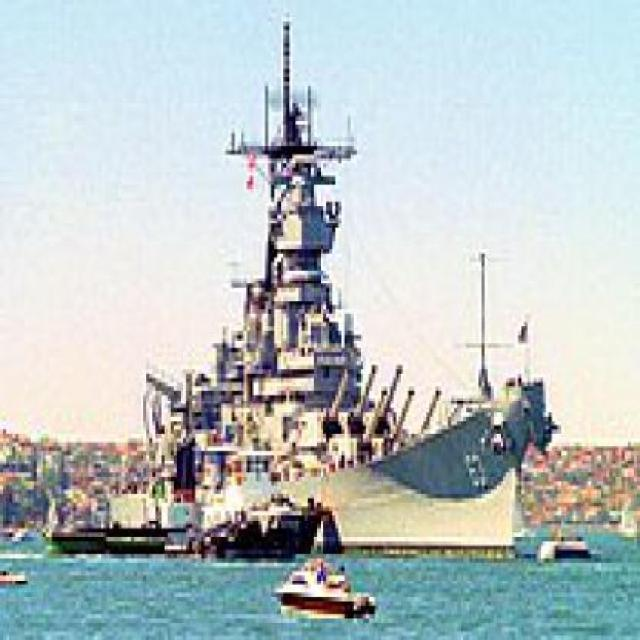warship2: (53, 14, 562, 560)
